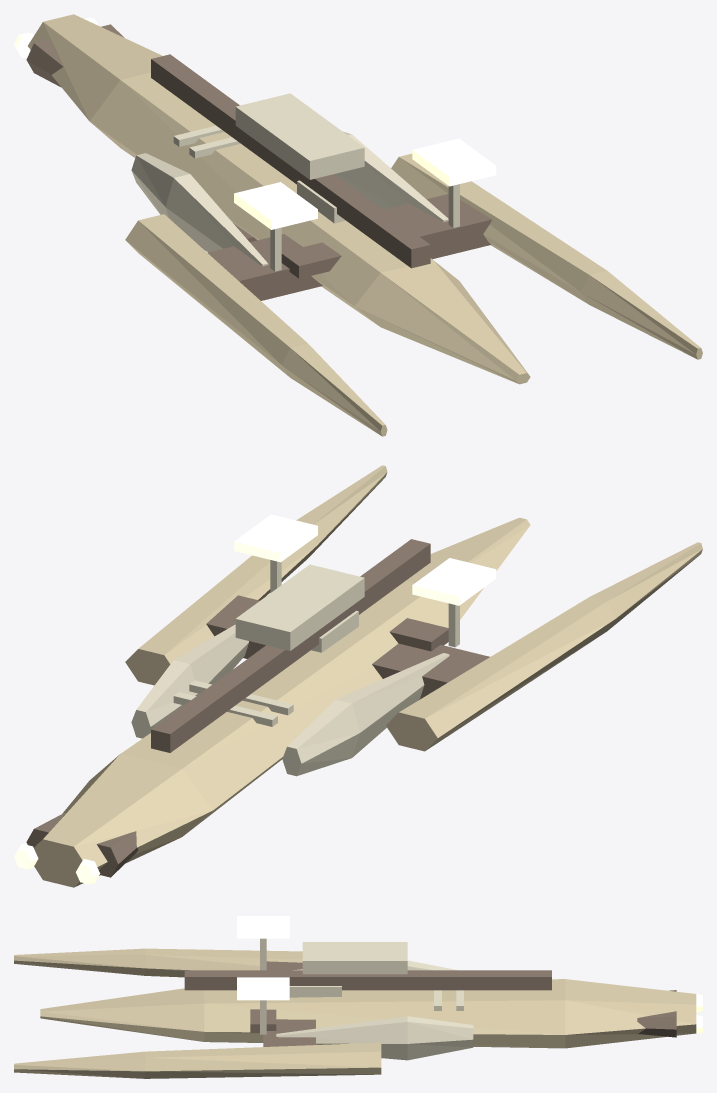
3 views of the same model, one above another, from view 1: azimuth 30°, elevation 25°; view 2: azimuth 150°, elevation 25°; view 3: azimuth 270°, elevation 25° (orthographic). The views are drawn at different scales.
Bounding box in the file's own units: 4.49 × 1.57 × 11.34.
